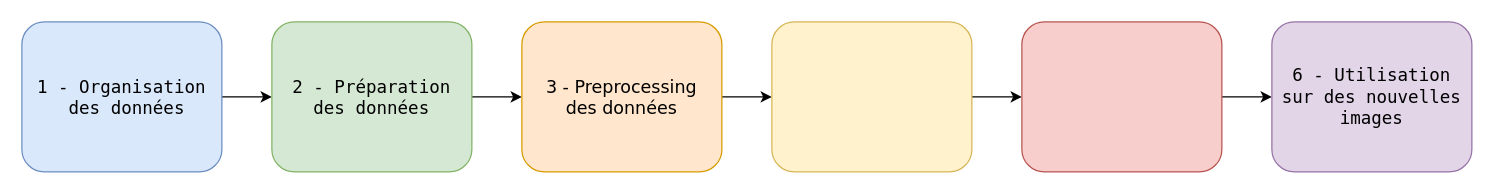
Image size: 1494x194. Some labels were removed from this diagram. The shapes that lost their labels are listed below. From the top down, each one's centre as x and y in pixels, then its label:
point 871,96: 4 - Entraînement sur cluster
point 1121,96: 4 - Prédiction sur les images de test
